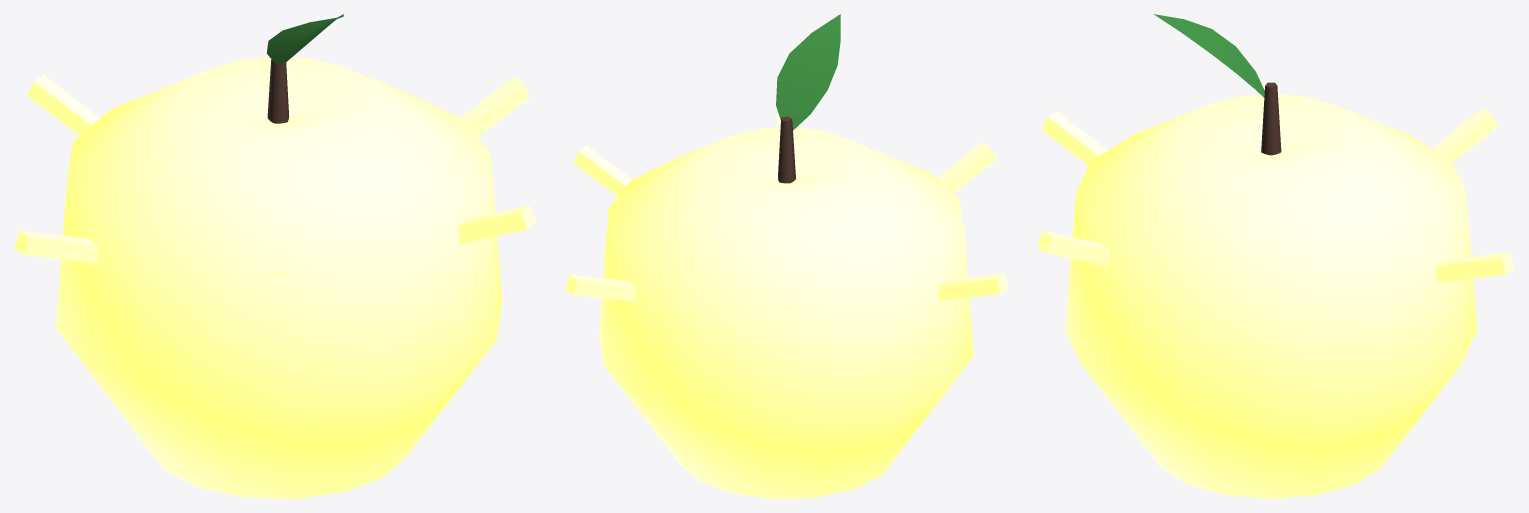
File: fruit-apple-shocked.gltf
3 renders of one model, left to right at view 1: azimuth 30°, elevation 25°; view 2: azimuth 150°, elevation 25°; view 3: azimuth 270°, elevation 25°, orthographic. The views are drawn at different scales.
Bounding box in the file's own units: 0.495 × 0.4523 × 0.4407.
